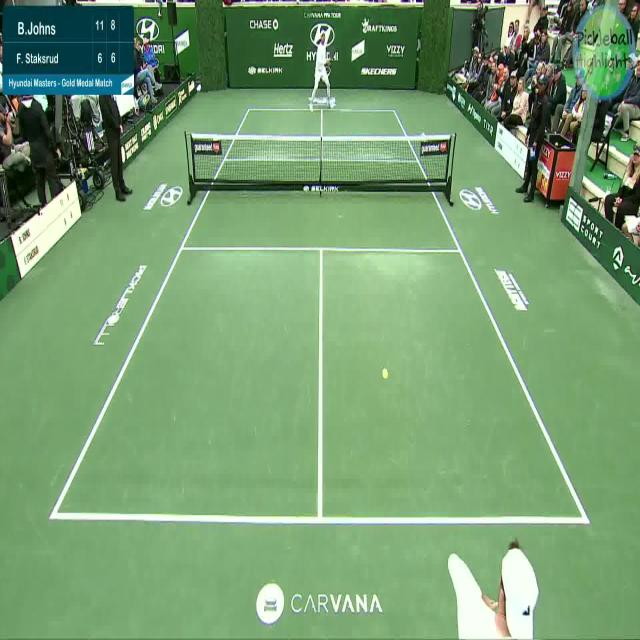ball: (381, 366, 389, 383)
